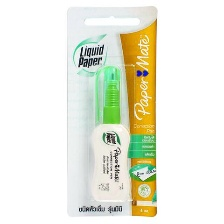book: (63, 4, 160, 219)
correction_fluid: (86, 64, 132, 203)
